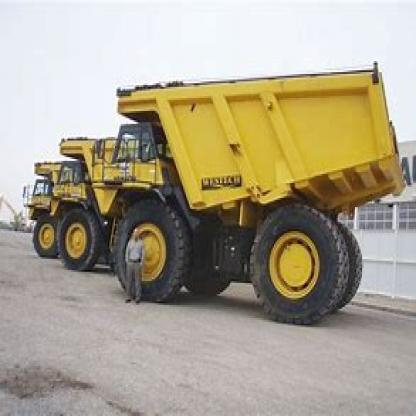dump_truck: (105, 61, 395, 322)
